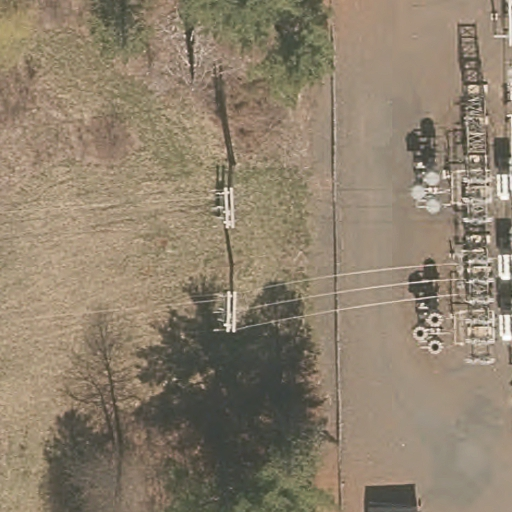DT: (220, 186, 236, 231), (224, 289, 237, 333)
